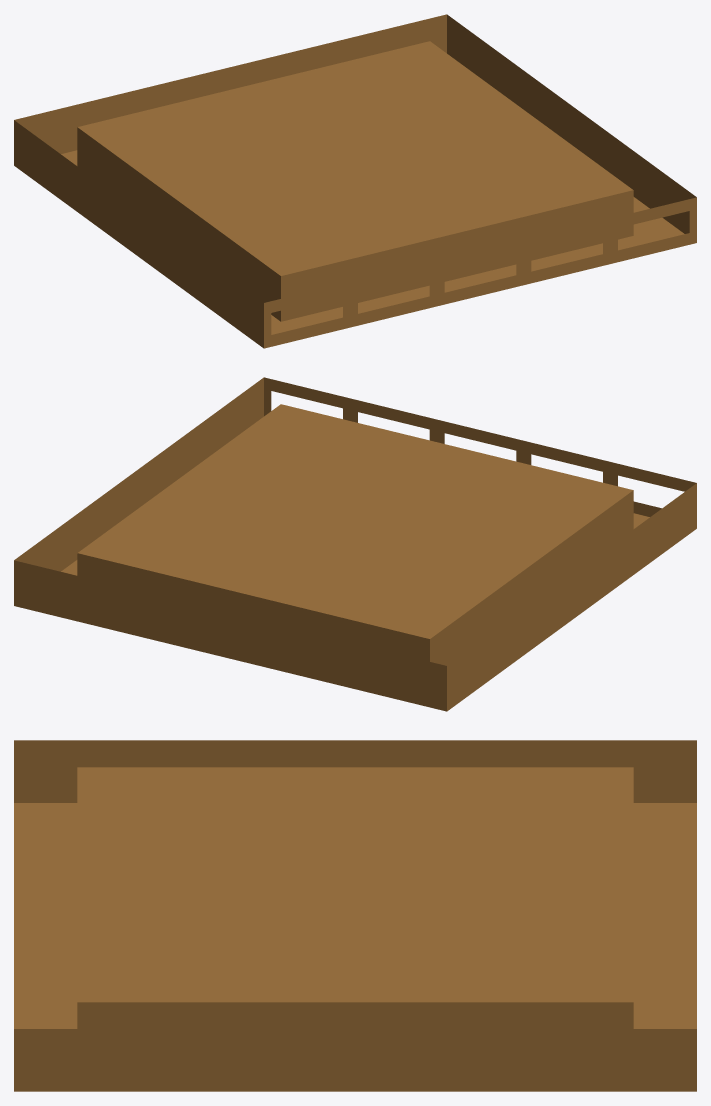
The model's file is roof-1.gltf.
3 renders of one model, top to bottom at view 1: azimuth 30°, elevation 25°; view 2: azimuth 150°, elevation 25°; view 3: azimuth 270°, elevation 25°, orthographic. The views are drawn at different scales.
Visible parts, largest first — view 1: Plane.003; view 2: Plane.003; view 3: Plane.003.
Part boxes in pixels (bbox=[...]): Plane.003: bbox=[14, 14, 696, 348]; Plane.003: bbox=[14, 377, 696, 711]; Plane.003: bbox=[14, 740, 696, 1091].
Bounding box in the file's own units: 1.77 × 0.1789 × 1.77.
Materials: 1 (1 with a texture image).
